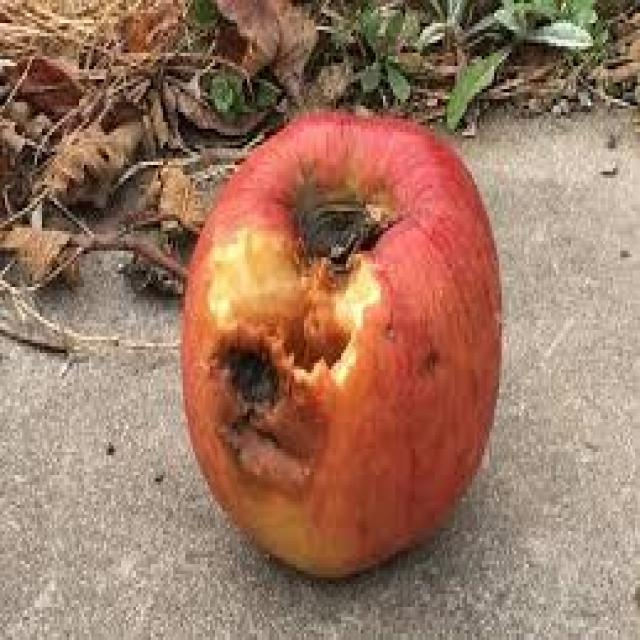organic waste: (178, 105, 499, 578)
